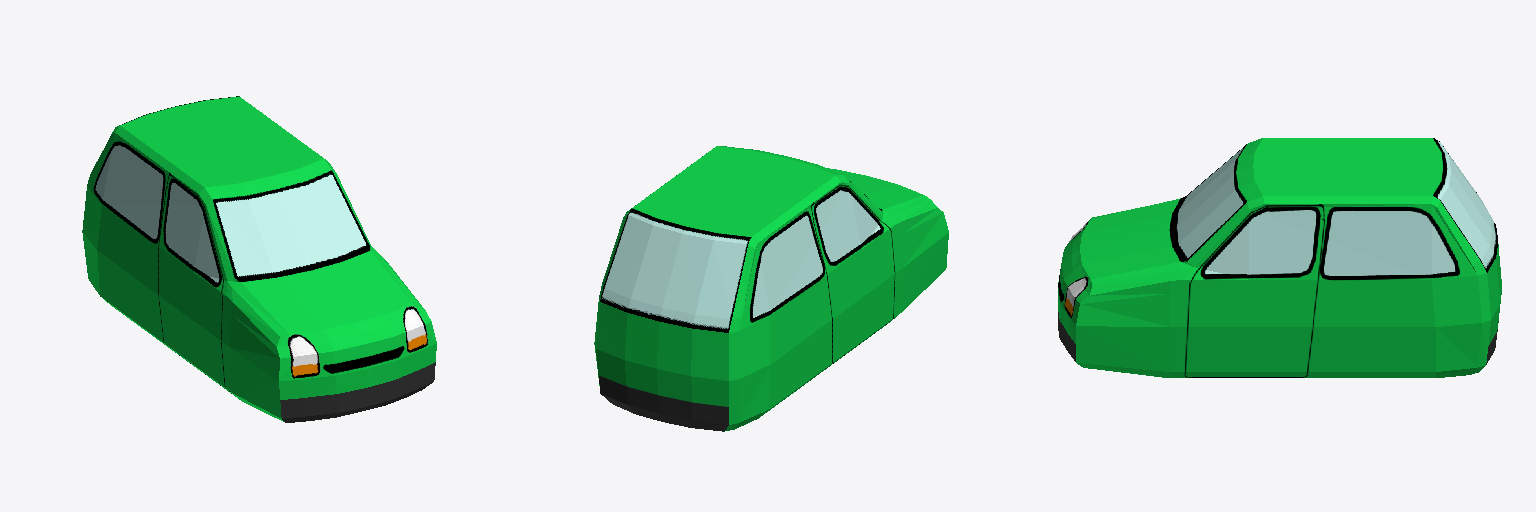
3 views of the same model, side by side, from view 1: azimuth 30°, elevation 25°; view 2: azimuth 150°, elevation 25°; view 3: azimuth 270°, elevation 25° (orthographic).
Visible parts, largest first — view 1: Cube; view 2: Cube; view 3: Cube.
Boxes of the visible parts, <box> form: Cube: <box>82,96,436,422</box>; Cube: <box>594,146,948,431</box>; Cube: <box>1058,138,1501,377</box>.
Size of the model in its own units: 2.94 by 3.1 by 7.
Materials: 1 (1 with a texture image).